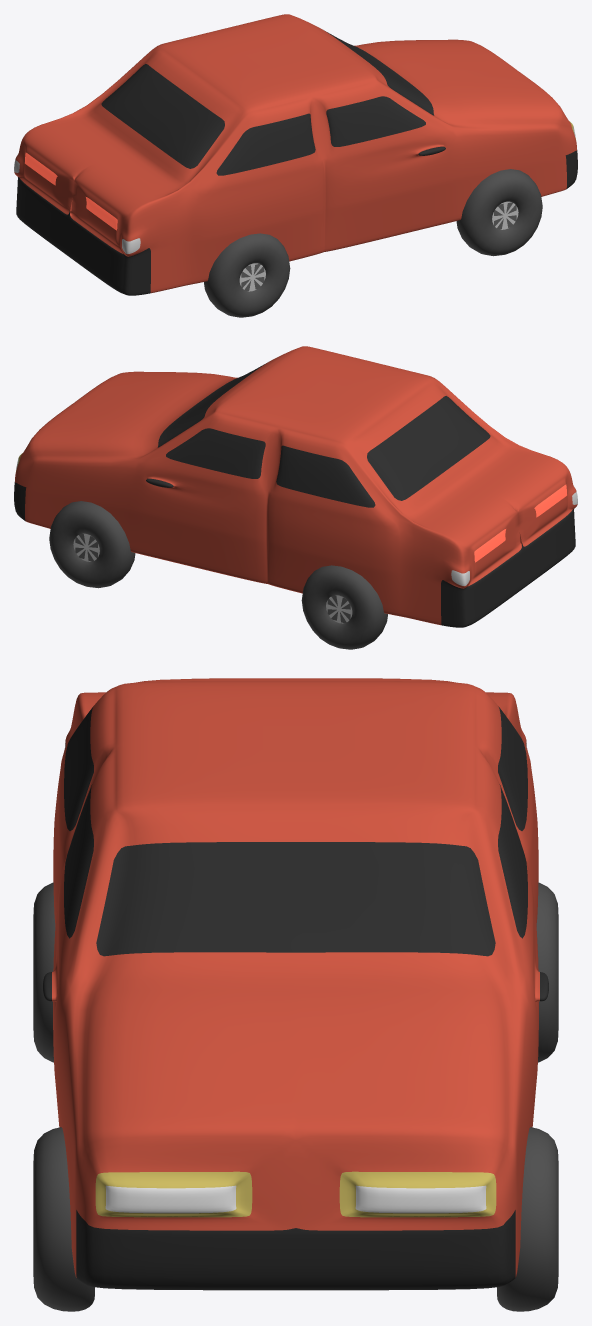
The model's file is runaway_items_car.fbx.
3 views of the same model, one above another, from view 1: azimuth 30°, elevation 25°; view 2: azimuth 150°, elevation 25°; view 3: azimuth 270°, elevation 25° (orthographic). The views are drawn at different scales.
Parts seen in each view (by area): view 1: Cube, Torus.000, Torus.001, Cube.001, Cube.002; view 2: Cube, Torus.002, Torus.003, Cube.004, Cube.003; view 3: Cube, Torus.002, Torus.000, Torus.003, Torus.001.
Part boxes in pixels (x1,y1,x2,y2): Cube: (14, 14, 577, 295); Torus.000: (456, 169, 542, 256); Torus.001: (204, 233, 290, 317); Cube.001: (239, 263, 265, 291); Cube.002: (492, 201, 518, 229); Cube: (14, 346, 577, 627); Torus.002: (49, 501, 135, 588); Torus.003: (301, 565, 387, 649); Cube.004: (326, 595, 352, 623); Cube.003: (73, 533, 99, 561); Cube: (43, 678, 548, 1290); Torus.002: (497, 1127, 558, 1311); Torus.000: (33, 1127, 94, 1311); Torus.003: (536, 882, 558, 1062); Torus.001: (33, 882, 55, 1062).
Size of the model in its own units: 405 by 164 by 198.
